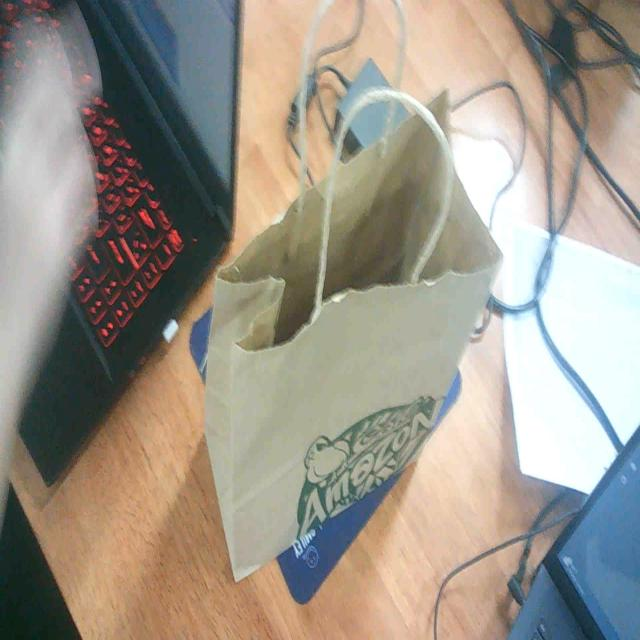bag: (233, 154, 467, 584)
